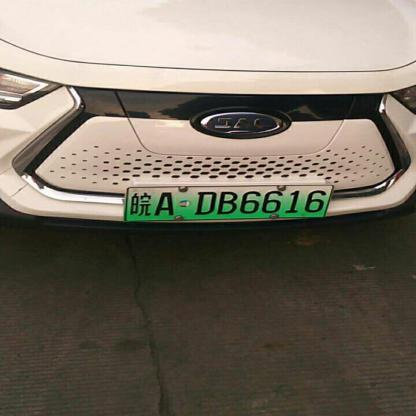lp: (127, 185, 332, 220)
